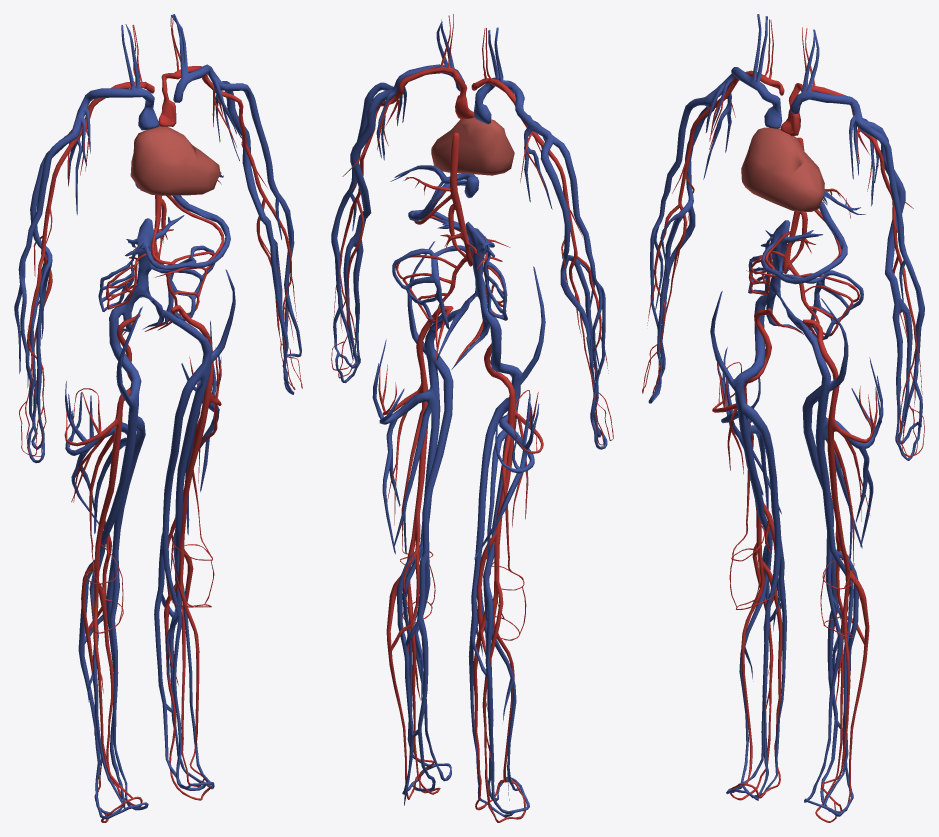
File: pediatric_child_5y_male.cardiovascular.LOD2.glb
The picture shows the model from 3 angles, left to right: view 1: azimuth 30°, elevation 25°; view 2: azimuth 150°, elevation 25°; view 3: azimuth 330°, elevation 25°; orthographic projection.
Parts seen in each view (by area): view 1: PEDIATRIC.CHILD_5Y.MALE.CARDIOVASCULAR.BLOOD_IN_LARGE_VEINS, PEDIATRIC.CHILD_5Y.MALE.CARDIOVASCULAR.BLOOD_IN_LARGE_ARTERI, PEDIATRIC.CHILD_5Y.MALE.CARDIOVASCULAR.HEART_WALL; view 2: PEDIATRIC.CHILD_5Y.MALE.CARDIOVASCULAR.BLOOD_IN_LARGE_VEINS, PEDIATRIC.CHILD_5Y.MALE.CARDIOVASCULAR.BLOOD_IN_LARGE_ARTERI, PEDIATRIC.CHILD_5Y.MALE.CARDIOVASCULAR.HEART_WALL; view 3: PEDIATRIC.CHILD_5Y.MALE.CARDIOVASCULAR.BLOOD_IN_LARGE_VEINS, PEDIATRIC.CHILD_5Y.MALE.CARDIOVASCULAR.BLOOD_IN_LARGE_ARTERI, PEDIATRIC.CHILD_5Y.MALE.CARDIOVASCULAR.HEART_WALL.
Boxes of the visible parts, x1,y1,x2,y2 form: PEDIATRIC.CHILD_5Y.MALE.CARDIOVASCULAR.BLOOD_IN_LARGE_VEINS: [14, 14, 301, 819]; PEDIATRIC.CHILD_5Y.MALE.CARDIOVASCULAR.BLOOD_IN_LARGE_ARTERI: [19, 14, 302, 822]; PEDIATRIC.CHILD_5Y.MALE.CARDIOVASCULAR.HEART_WALL: [130, 126, 220, 195]; PEDIATRIC.CHILD_5Y.MALE.CARDIOVASCULAR.BLOOD_IN_LARGE_VEINS: [331, 19, 607, 817]; PEDIATRIC.CHILD_5Y.MALE.CARDIOVASCULAR.BLOOD_IN_LARGE_ARTERI: [331, 14, 613, 822]; PEDIATRIC.CHILD_5Y.MALE.CARDIOVASCULAR.HEART_WALL: [431, 117, 514, 175]; PEDIATRIC.CHILD_5Y.MALE.CARDIOVASCULAR.BLOOD_IN_LARGE_VEINS: [648, 14, 924, 816]; PEDIATRIC.CHILD_5Y.MALE.CARDIOVASCULAR.BLOOD_IN_LARGE_ARTERI: [642, 19, 924, 822]; PEDIATRIC.CHILD_5Y.MALE.CARDIOVASCULAR.HEART_WALL: [741, 127, 824, 211].
Size of the model in its own units: 0.3474 by 0.9433 by 0.1177.
